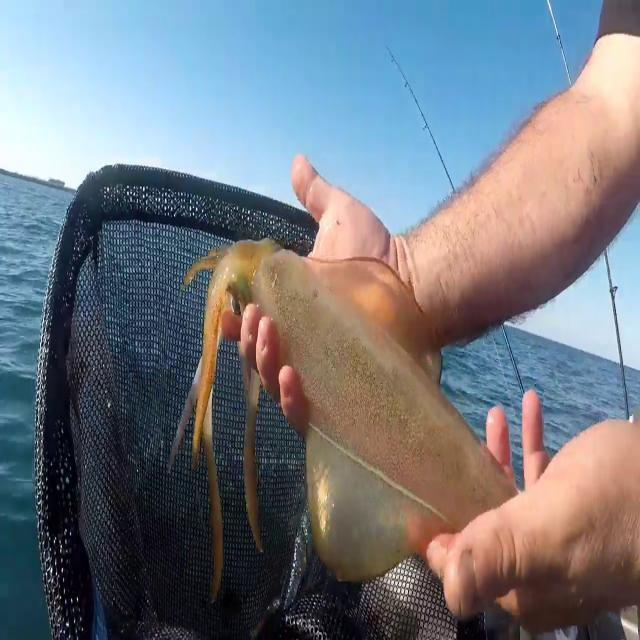SQUID: (160, 221, 555, 640)
